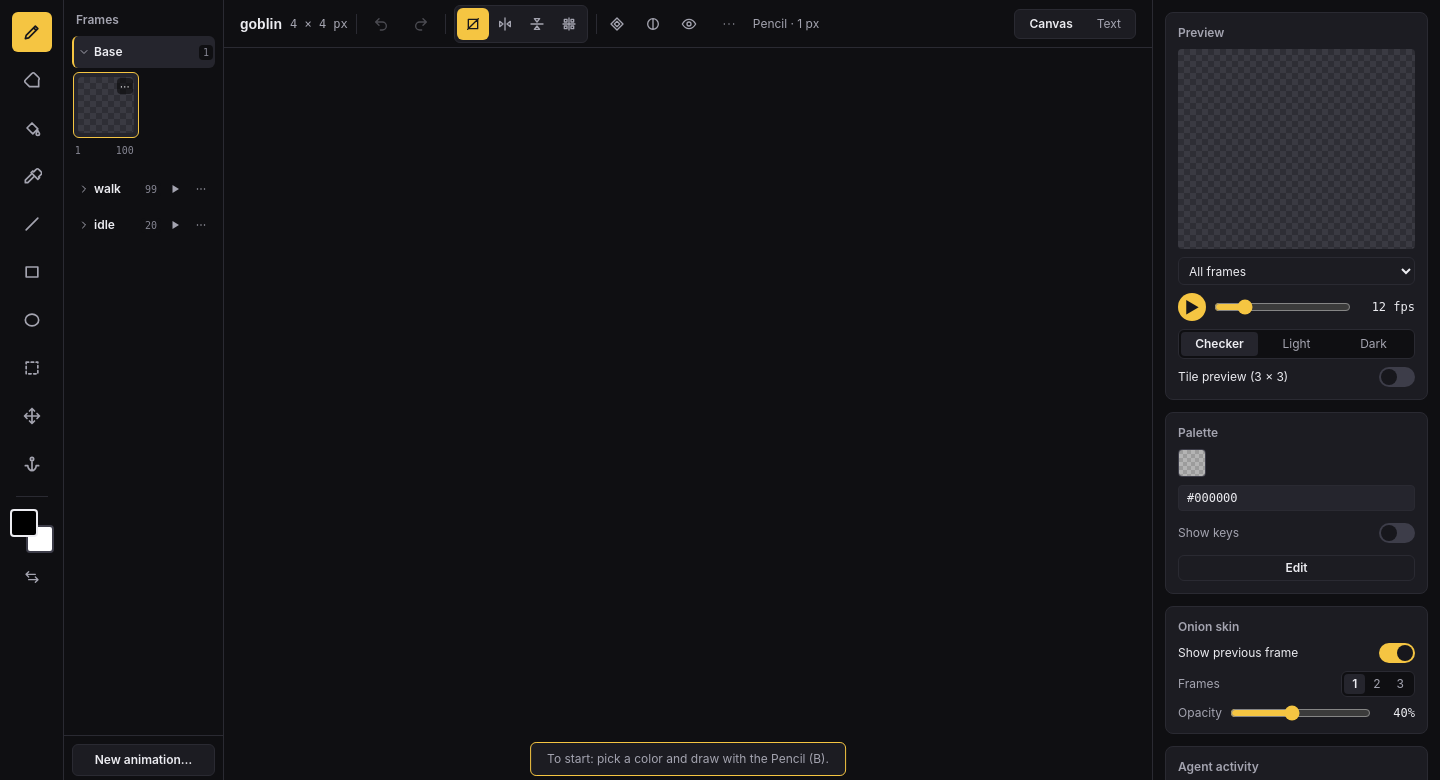
Test case: The frames strip in groups › lists only the frames of the open group in a long sprite
Expected: the element "idle" is shown, x1=72 y1=209 x2=215 y2=241
Expected: the number of buttons named "Frame 1" is 1, x1=73 y1=72 x2=139 y2=138
Click the button with aria-label "Select walk" at (108, 189), box x1=78 y1=177 x2=139 y2=201
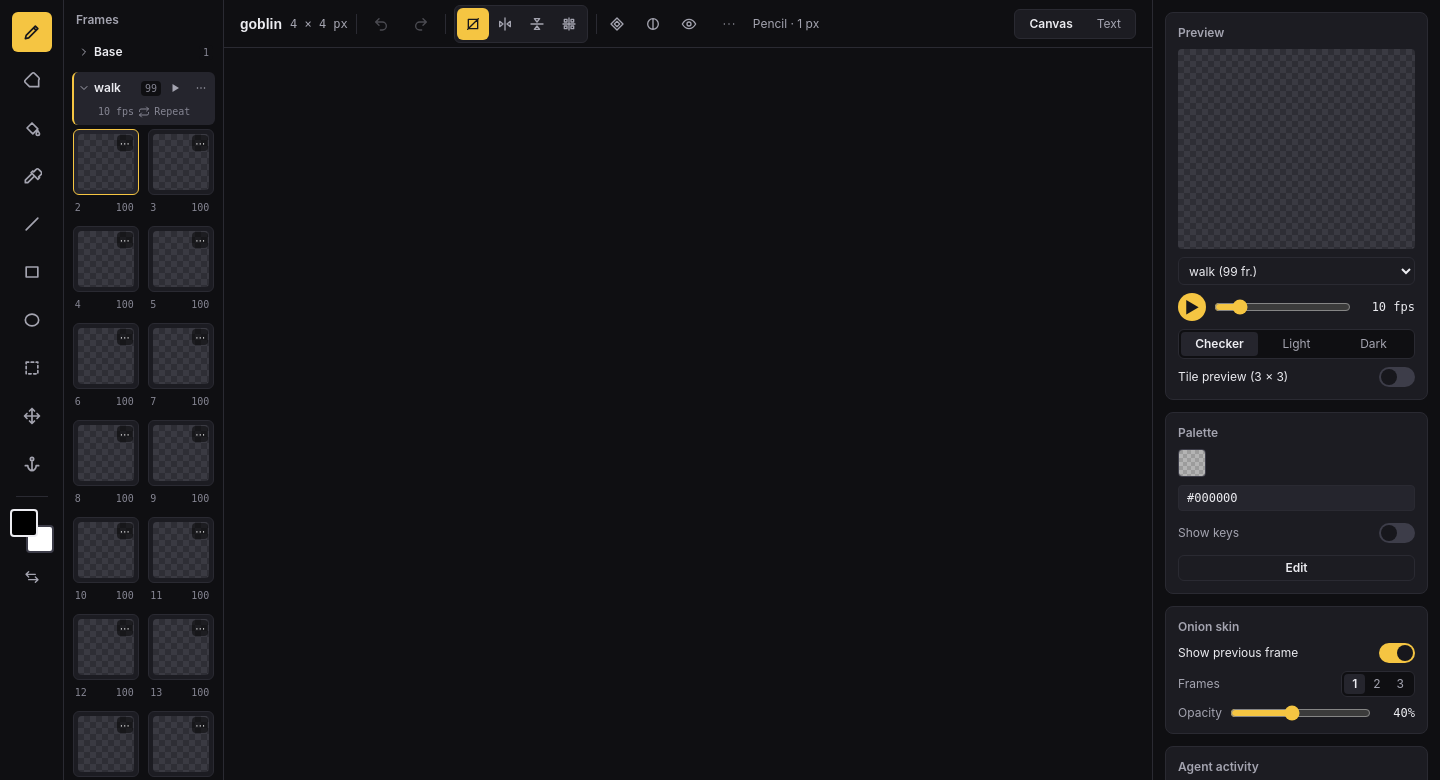
Now the number of buttons named "Frame 2" is 99
